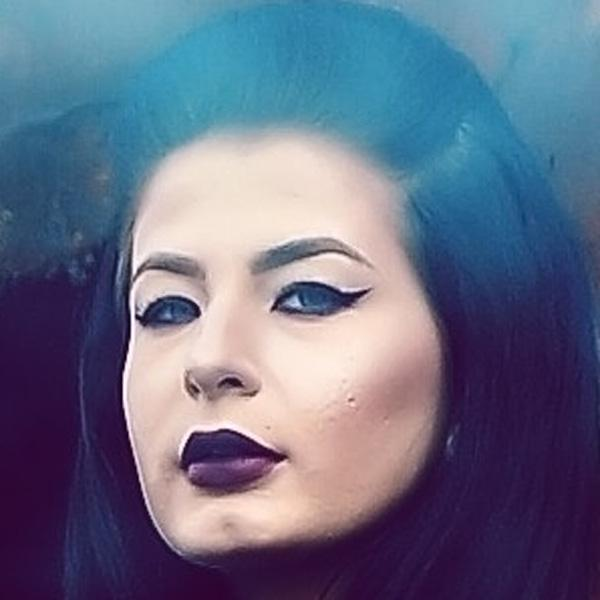Eyes: (262, 267, 371, 326), (128, 281, 213, 342)
